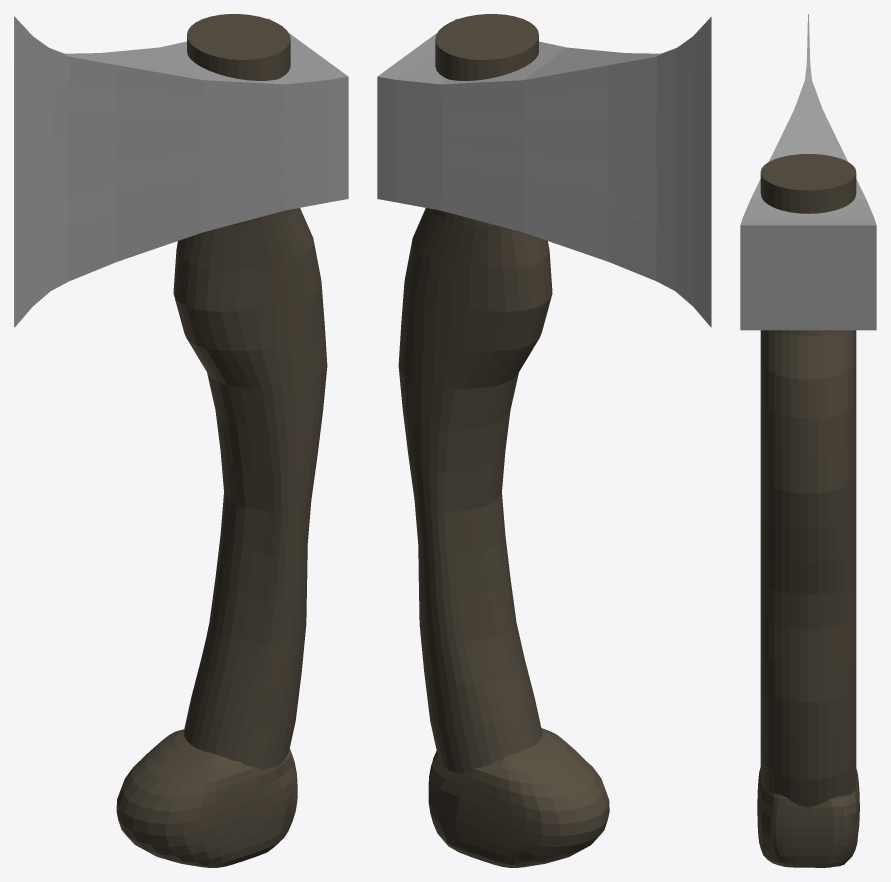
The model's file is Heirloom_Axe.fbx.
The picture shows the model from 3 angles, left to right: view 1: azimuth 30°, elevation 25°; view 2: azimuth 150°, elevation 25°; view 3: azimuth 270°, elevation 25°; orthographic projection. The views are drawn at different scales.
Visible parts, largest first — view 1: Sphere; view 2: Sphere; view 3: Sphere.
Boxes of the visible parts, x1,y1,x2,y2 form: Sphere: [14, 14, 348, 867]; Sphere: [377, 14, 711, 867]; Sphere: [740, 14, 876, 867].
Size of the model in its own units: 435 by 1208 by 196.
